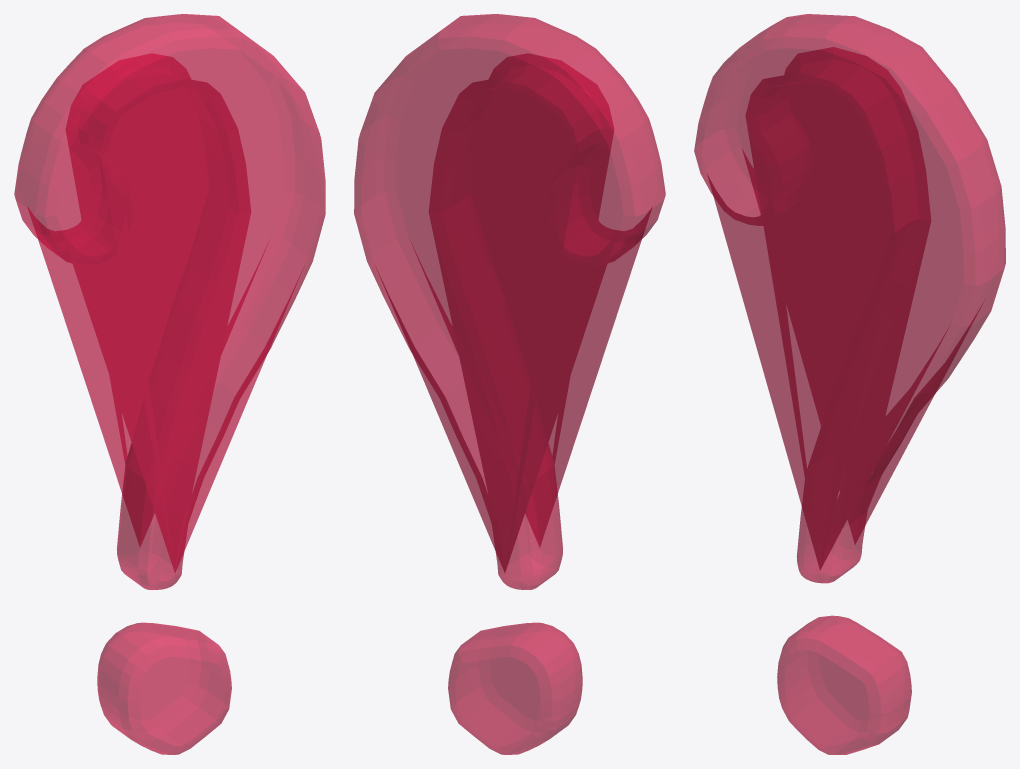
The model's file is question mark.fbx.
3 views of the same model, side by side, from view 1: azimuth 30°, elevation 25°; view 2: azimuth 150°, elevation 25°; view 3: azimuth 330°, elevation 25° (orthographic).
Visible parts, largest first — view 1: pTo Grande; view 2: pTo Grande; view 3: pTo Grande.
Part boxes in pixels (bbox=[...]): pTo Grande: bbox=[14, 14, 325, 754]; pTo Grande: bbox=[354, 14, 665, 754]; pTo Grande: bbox=[694, 14, 1005, 754].
Size of the model in its own units: 24.56 by 58.74 by 5.15.
